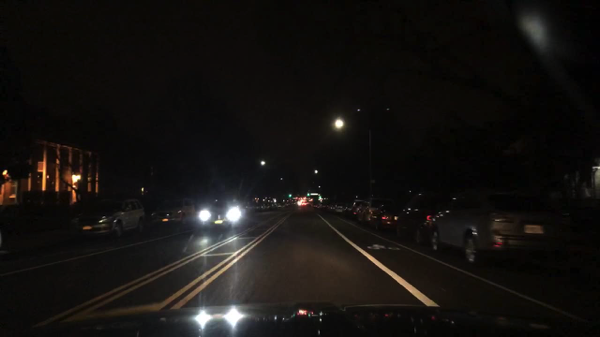car: (426, 188, 571, 267), (395, 189, 462, 247), (68, 197, 146, 240), (198, 195, 249, 230), (147, 197, 199, 230), (359, 198, 409, 230), (349, 199, 370, 219), (341, 199, 361, 218), (332, 202, 344, 216), (322, 201, 337, 212), (252, 201, 266, 212), (267, 201, 281, 210), (312, 200, 324, 210), (296, 199, 307, 208)
traffic light: (288, 192, 293, 199), (305, 191, 310, 198)
